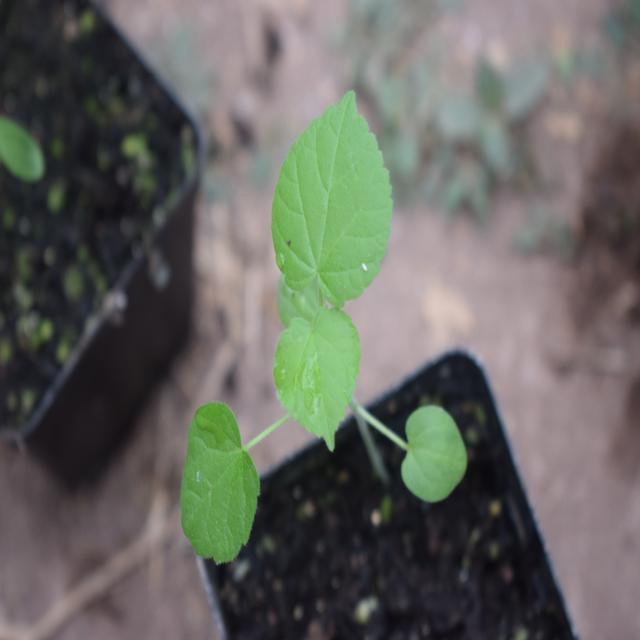abutilon theophrasti: (156, 102, 482, 544)
